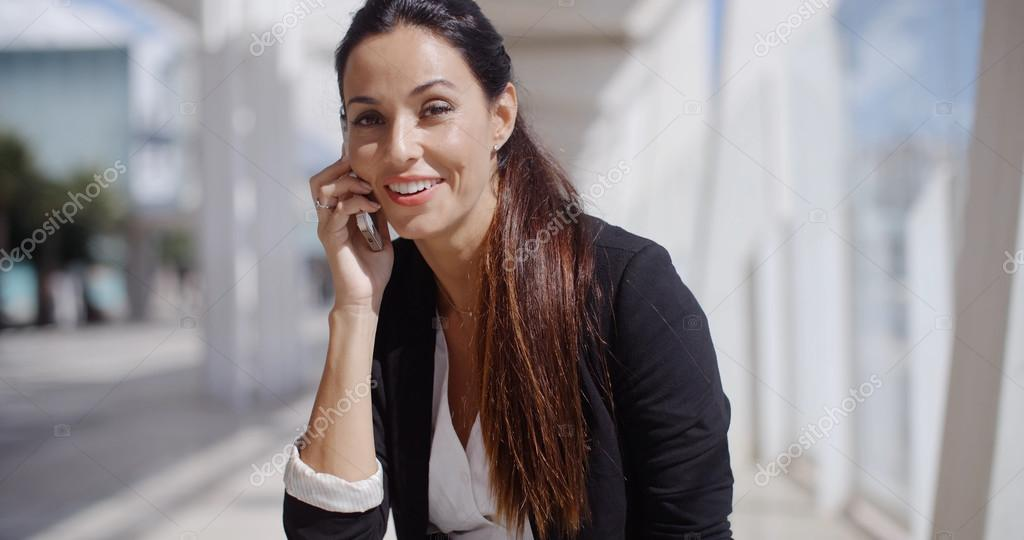phone: (301, 137, 389, 261)
talk: (309, 69, 478, 295)
